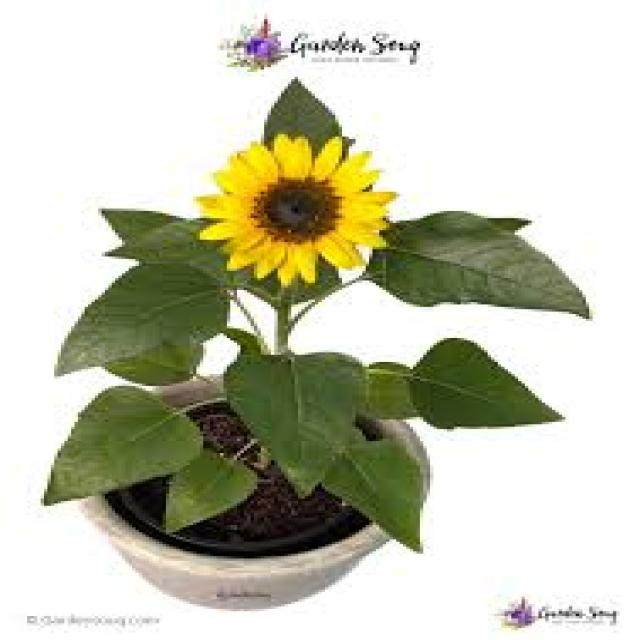sunflower: (187, 128, 404, 294)
